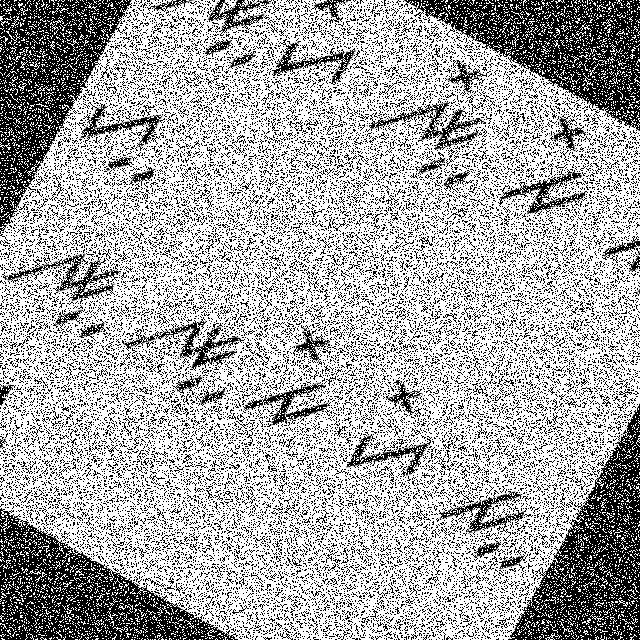hah: (60, 73, 194, 204), (0, 342, 43, 477)
ho: (334, 358, 464, 501), (260, 0, 386, 114)
mbah: (420, 442, 565, 584), (584, 179, 639, 323)
mbo: (484, 97, 626, 242), (230, 310, 361, 454)
ndah: (0, 199, 151, 355), (110, 275, 262, 422), (132, 0, 293, 93)
ndo: (356, 20, 532, 181)
